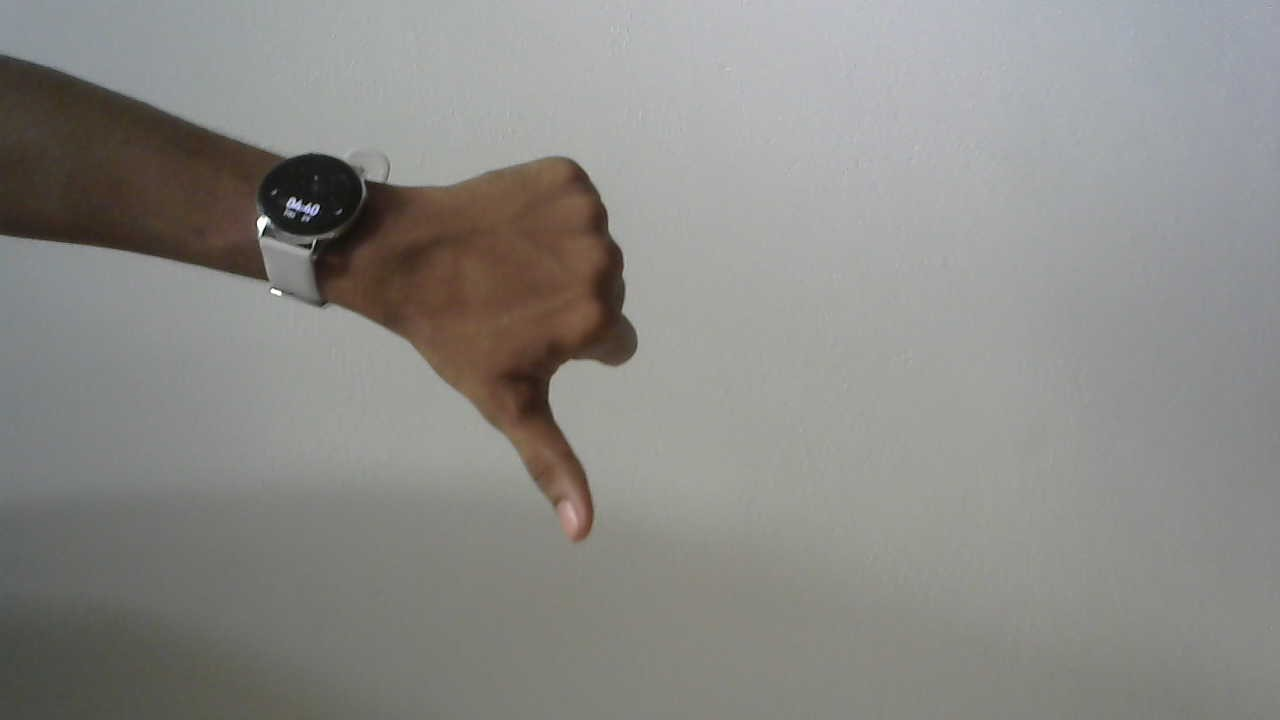thumbsdown: (385, 136, 649, 566)
